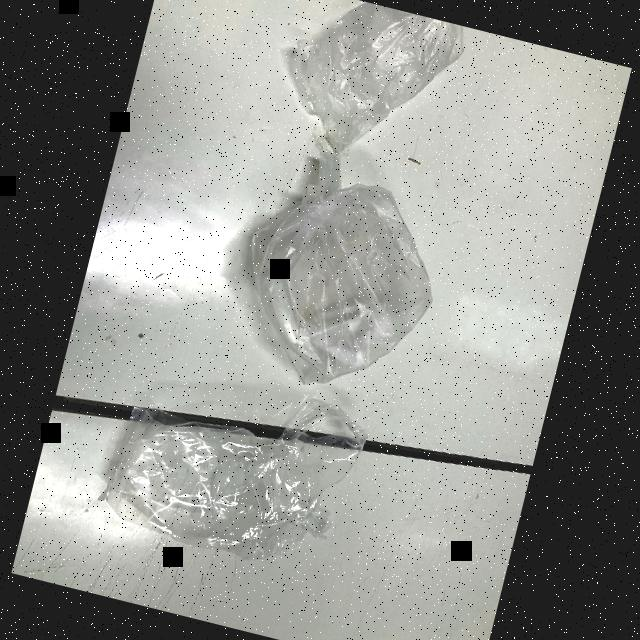plastic_bag: (84, 351, 376, 586), (219, 142, 462, 406), (255, 0, 474, 180)
